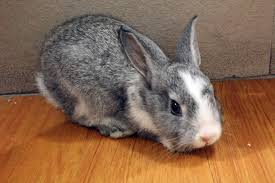bunny: (21, 6, 238, 157)
